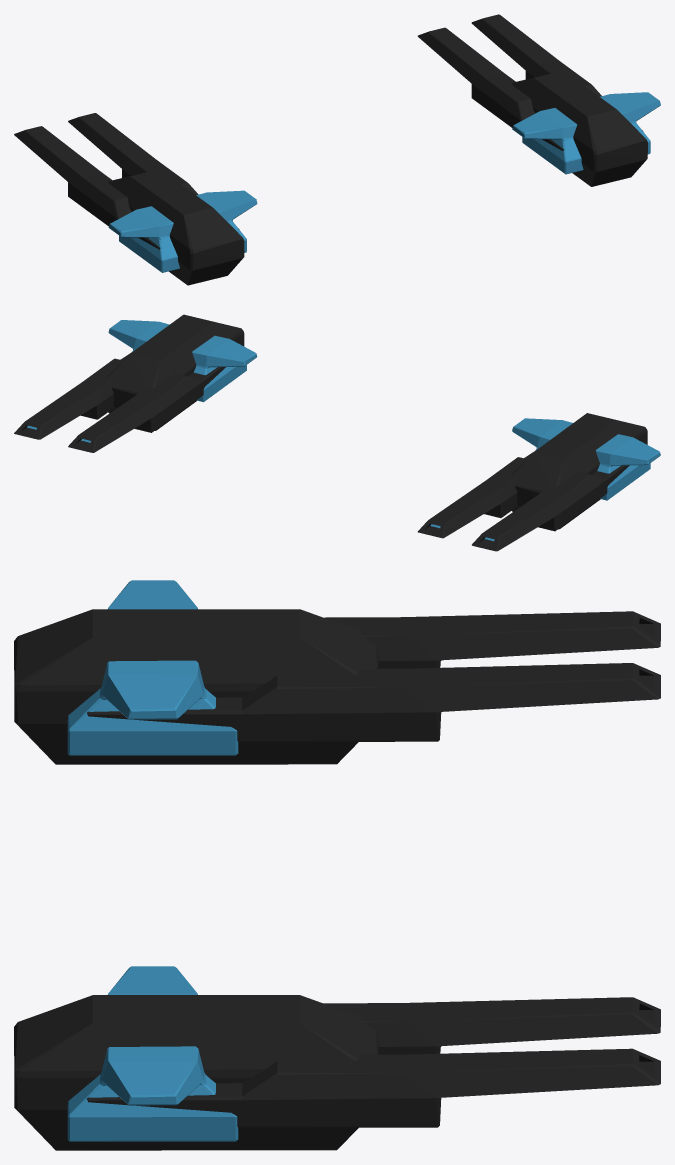
File: Spaceship_04.fbx
3 views of the same model, one above another, from view 1: azimuth 30°, elevation 25°; view 2: azimuth 150°, elevation 25°; view 3: azimuth 270°, elevation 25° (orthographic). The views are drawn at different scales.
Visible parts, largest first — view 1: Spaceship_04_Gun_detail_04, Spaceship_04_Gun_detail_01, Spaceship_04_Gun_detail_03, Spaceship_04_Gun_detail_06, Spaceship_04_Gun_detail_02, Spaceship_04_Gun_detail_05; view 2: Spaceship_04_Gun_detail_06, Spaceship_04_Gun_detail_03, Spaceship_04_Gun_detail_01, Spaceship_04_Gun_detail_04, Spaceship_04_Gun_detail_05, Spaceship_04_Gun_detail_02; view 3: Spaceship_04_Gun_detail_03, Spaceship_04_Gun_detail_06, Spaceship_04_Gun_detail_04, Spaceship_04_Gun_detail_01, Spaceship_04_Gun_detail_05, Spaceship_04_Gun_detail_02.
Part boxes in pixels (<box>): Spaceship_04_Gun_detail_04: <box>108,169,244,285</box>; Spaceship_04_Gun_detail_01: <box>511,70,647,186</box>; Spaceship_04_Gun_detail_03: <box>417,14,643,150</box>; Spaceship_04_Gun_detail_06: <box>14,113,239,249</box>; Spaceship_04_Gun_detail_02: <box>512,92,660,174</box>; Spaceship_04_Gun_detail_05: <box>108,190,257,272</box>; Spaceship_04_Gun_detail_06: <box>417,451,629,551</box>; Spaceship_04_Gun_detail_03: <box>14,352,225,452</box>; Spaceship_04_Gun_detail_01: <box>108,314,244,430</box>; Spaceship_04_Gun_detail_04: <box>511,413,647,529</box>; Spaceship_04_Gun_detail_05: <box>512,418,660,500</box>; Spaceship_04_Gun_detail_02: <box>108,320,257,402</box>; Spaceship_04_Gun_detail_03: <box>87,997,660,1127</box>; Spaceship_04_Gun_detail_06: <box>87,611,660,741</box>; Spaceship_04_Gun_detail_04: <box>14,609,378,764</box>; Spaceship_04_Gun_detail_01: <box>14,995,378,1150</box>; Spaceship_04_Gun_detail_05: <box>67,580,238,755</box>; Spaceship_04_Gun_detail_02: <box>67,966,238,1141</box>.
Size of the model in its own units: 173 by 19.24 by 91.83.
